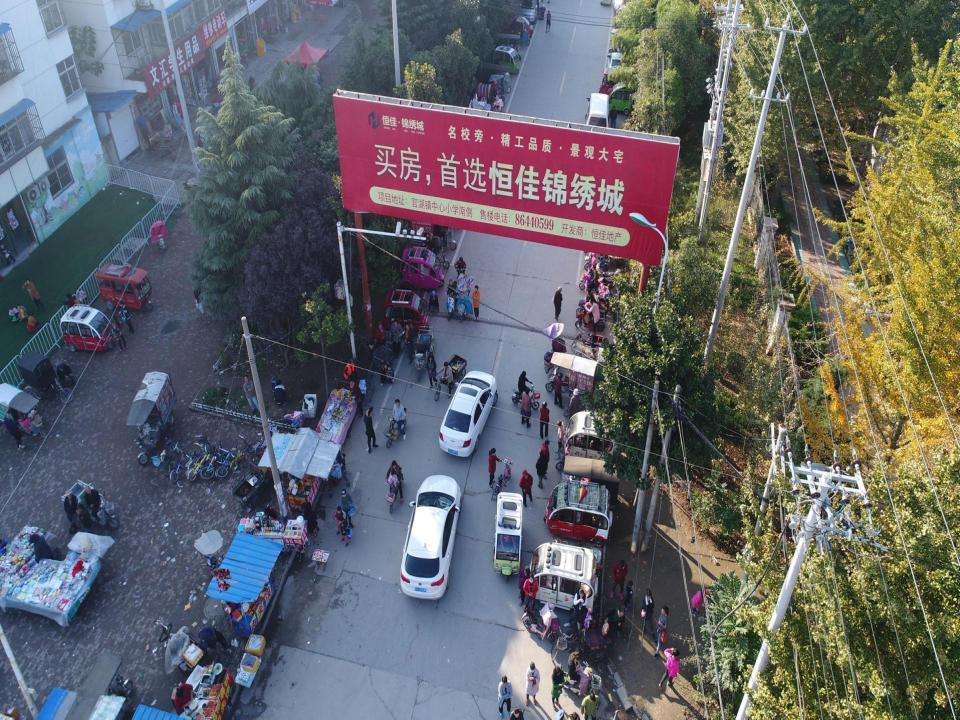car: (398, 470, 462, 601), (437, 367, 499, 459), (605, 50, 634, 86), (519, 0, 540, 27)
van: (584, 90, 612, 134)
